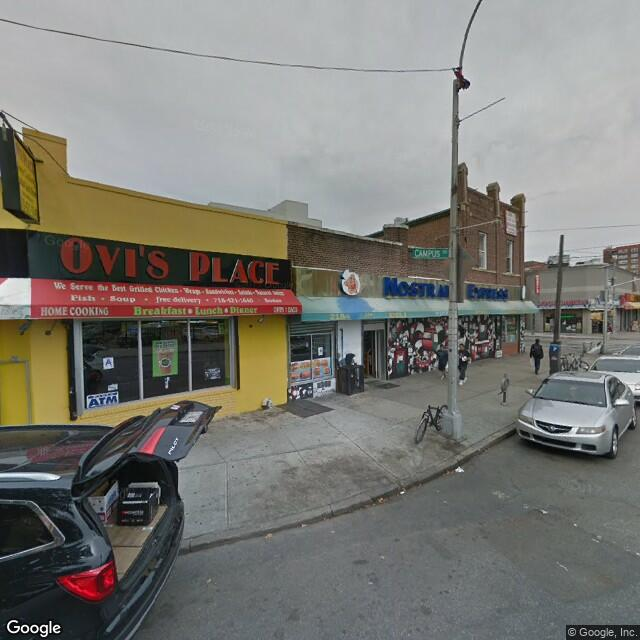litter: (448, 461, 475, 476), (257, 395, 280, 412)
